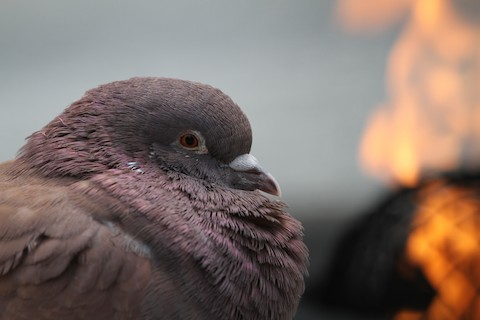pigeon: (13, 69, 313, 303)
